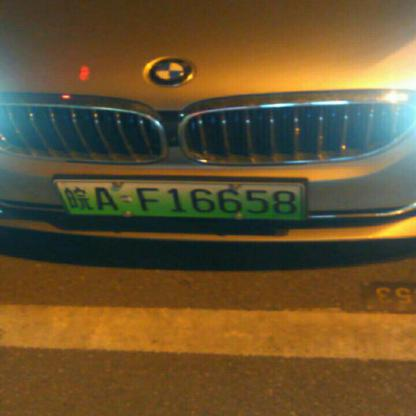lp: (56, 181, 72, 221)
